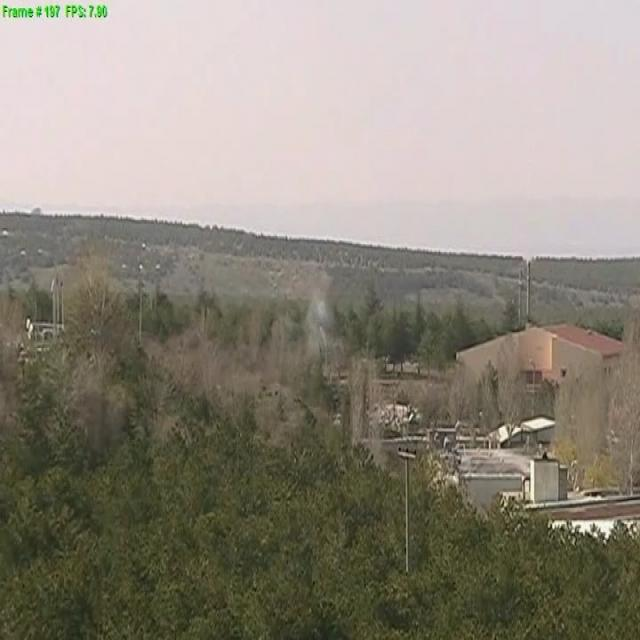smoke: (304, 295, 334, 363)
